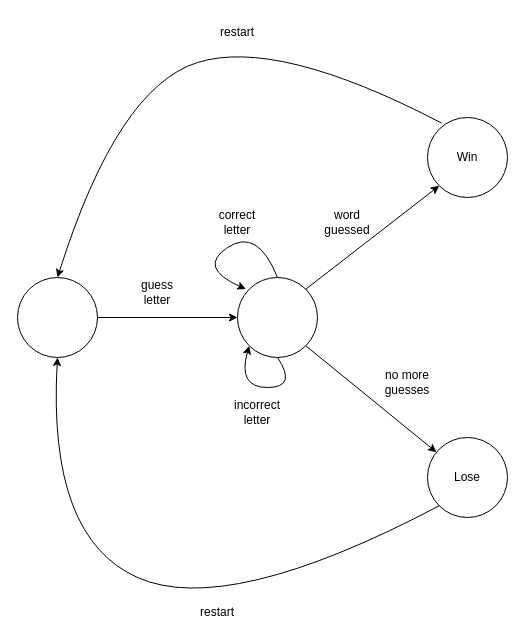
Image size: 525x644. Some labels were removed from this diagram. The box of each missing label's shape, as (x1, y1, x2, y2) in pixels:
Ongoing: (236, 276, 318, 358)
Start: (16, 276, 98, 358)
